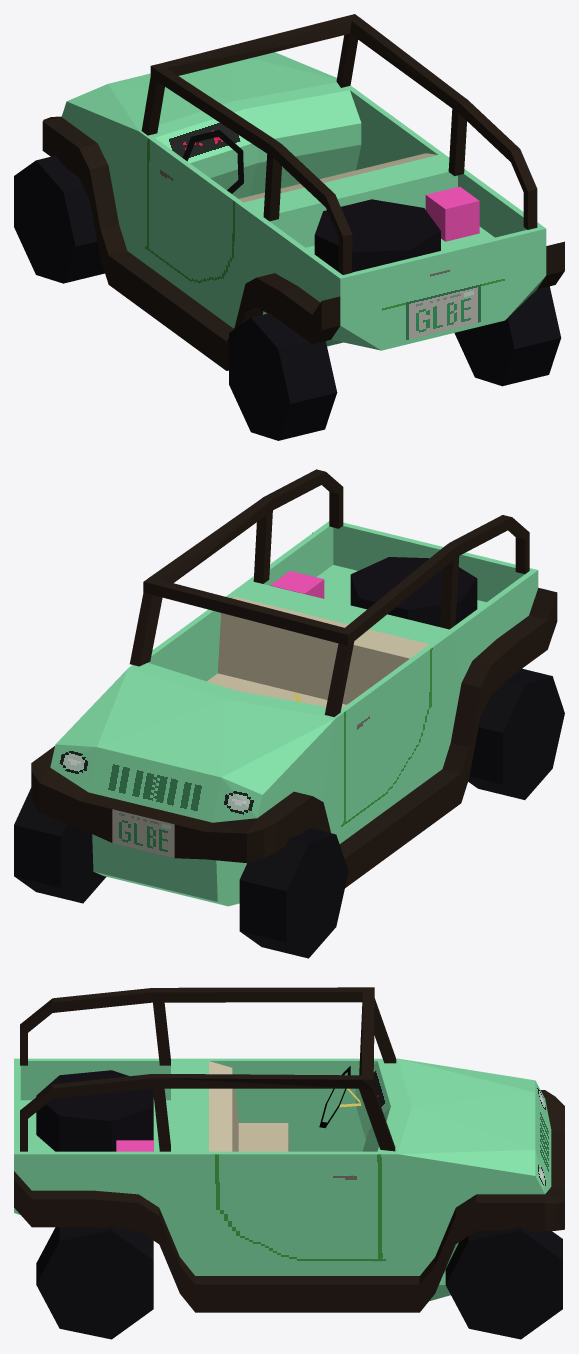
File: TheCar.glb
The picture shows the model from 3 angles, top to bottom: view 1: azimuth 30°, elevation 25°; view 2: azimuth 150°, elevation 25°; view 3: azimuth 270°, elevation 25°; orthographic projection. The views are drawn at different scales.
Visible parts, largest first — view 1: Chassis, Roll Bar, Tire-RR, Tire-FR, Tire-RL, Spare Tire, Pink Cube, Steering Wheel; view 2: Chassis, Roll Bar, Tire-FR, Tire-RR, Tire-FL, Spare Tire, Pink Cube; view 3: Chassis, Roll Bar, Tire-RL, Tire-FL, Spare Tire, Pink Cube.
Boxes of the visible parts, bbox=[...] form: Chassis: bbox=[42, 52, 564, 370]; Roll Bar: bbox=[141, 14, 537, 274]; Tire-RR: bbox=[229, 313, 337, 440]; Tire-FR: bbox=[14, 155, 104, 283]; Tire-RL: bbox=[454, 286, 561, 386]; Spare Tire: bbox=[314, 199, 440, 272]; Pink Cube: bbox=[425, 186, 479, 241]; Steering Wheel: bbox=[182, 130, 243, 193]; Chassis: bbox=[31, 521, 557, 906]; Roll Bar: bbox=[129, 469, 529, 716]; Tire-FR: bbox=[239, 828, 348, 958]; Tire-RR: bbox=[468, 668, 564, 799]; Tire-FL: bbox=[14, 788, 106, 903]; Spare Tire: bbox=[350, 557, 477, 626]; Pink Cube: bbox=[270, 571, 324, 598]; Chassis: bbox=[14, 1058, 564, 1312]; Roll Bar: bbox=[20, 987, 396, 1151]; Tire-RL: bbox=[36, 1226, 153, 1339]; Tire-FL: bbox=[445, 1227, 562, 1339]; Spare Tire: bbox=[36, 1070, 153, 1151]; Pink Cube: bbox=[116, 1140, 153, 1151].
Bounding box in the file's own units: 1.98 × 1.81 × 3.66.
Materials: 7 (1 with a texture image).
